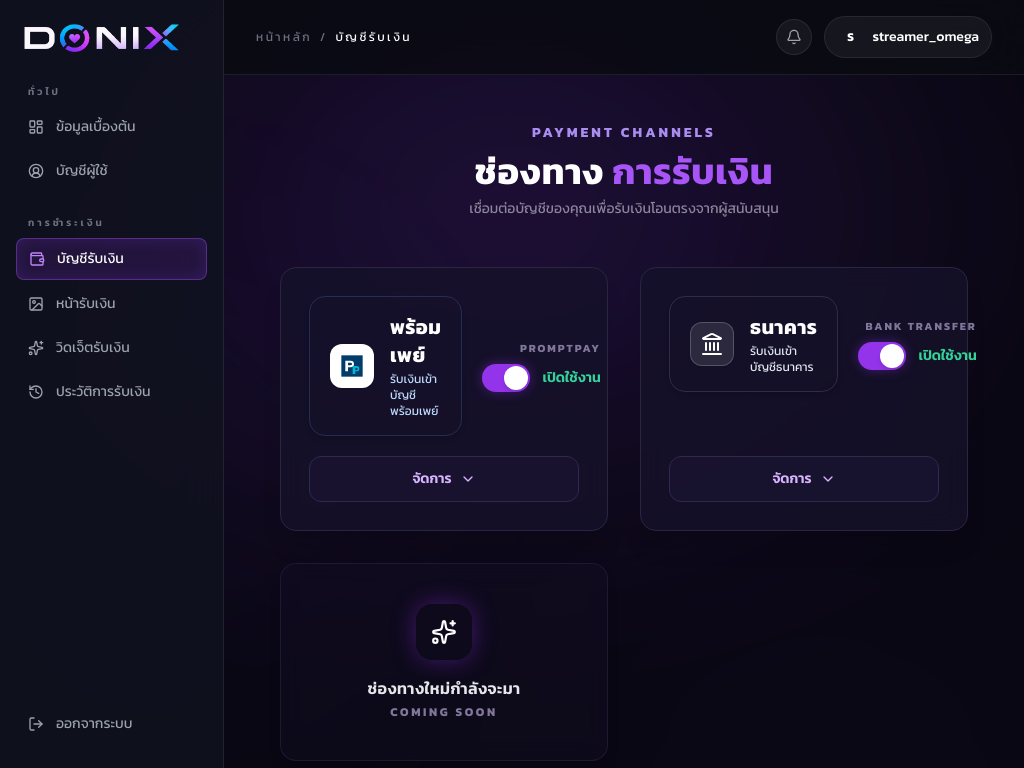
it: PaymentPage Integration › saves PromptPay successfully and shows feedback toast
Check: the heading "พร้อมเพย์" is shown, box [390,313,442,369]
Note: Expand promptpay card
Click the button "จัดการ" below "รับเงินเข้าบัญชีพร้อมเพย์": (444,479) [309,456,579,502]
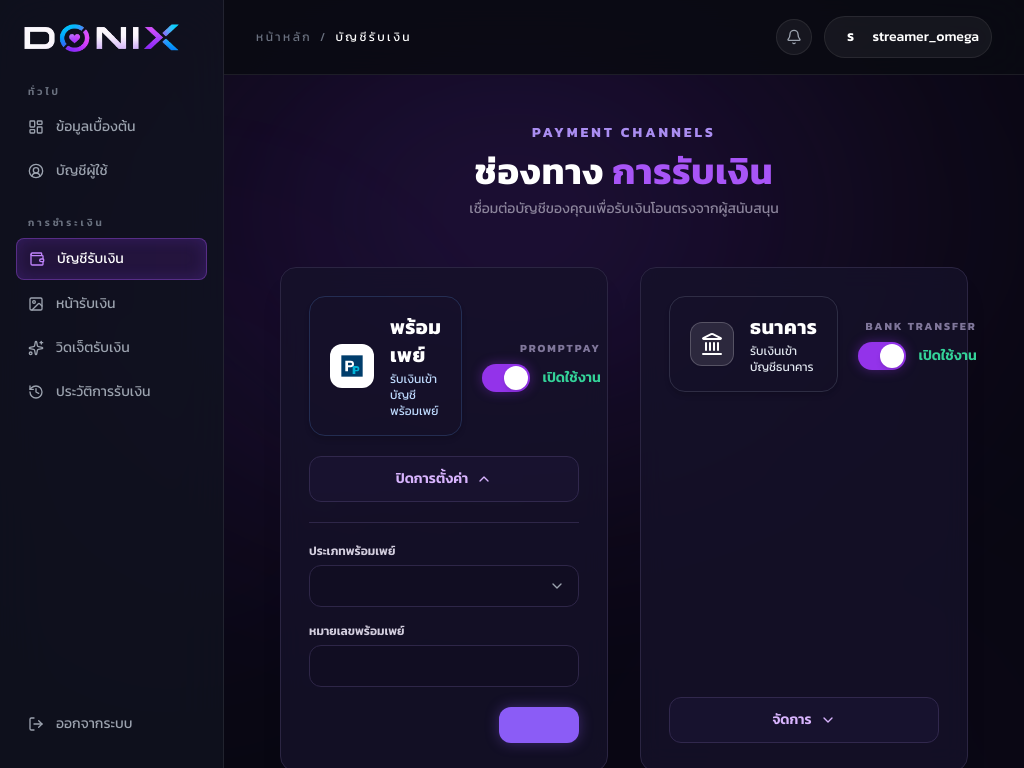
Note: Submit PromptPay
Click the button "บันทึก": (539,725) [499,707,579,743]
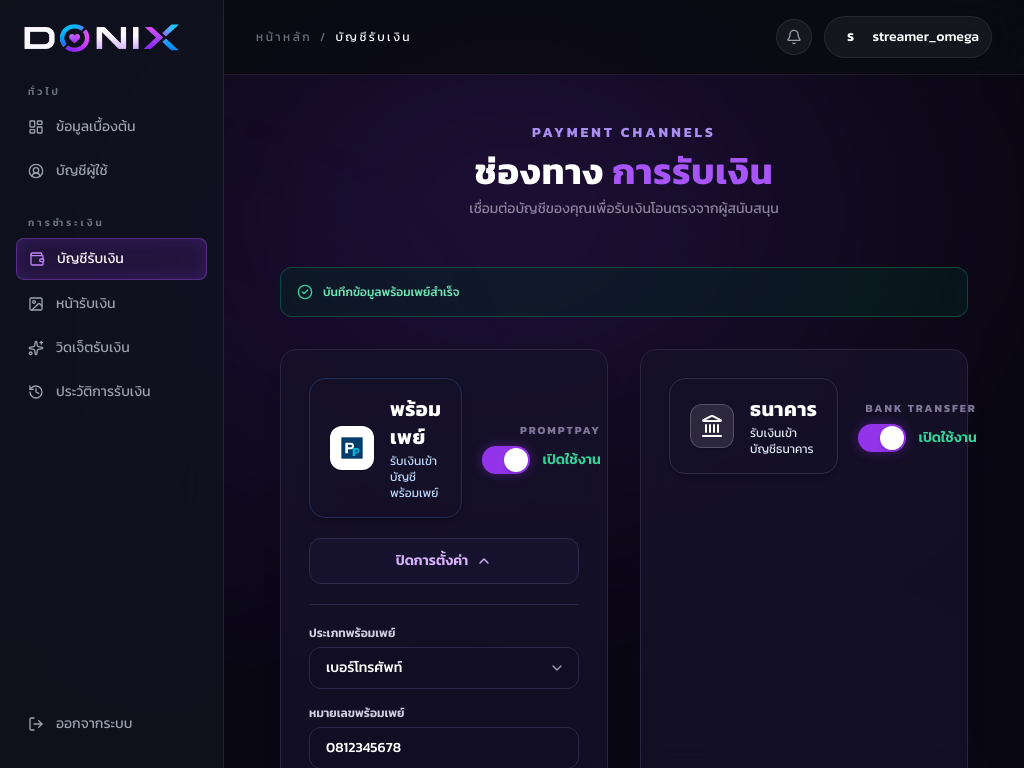
Check: the text "บันทึกข้อมูลพร้อมเพย์สำเร็จ" is shown, box [323,284,460,300]
